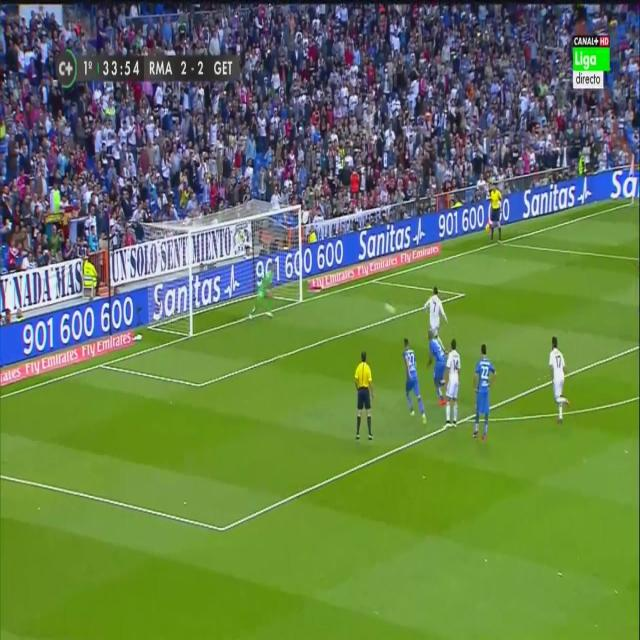Goalkeeper: (248, 260, 278, 322)
Player: (470, 340, 497, 444), (546, 332, 573, 428), (401, 335, 428, 426), (442, 335, 464, 430), (426, 328, 446, 411), (423, 284, 450, 337)
Referee: (354, 347, 376, 442), (484, 180, 504, 243)
